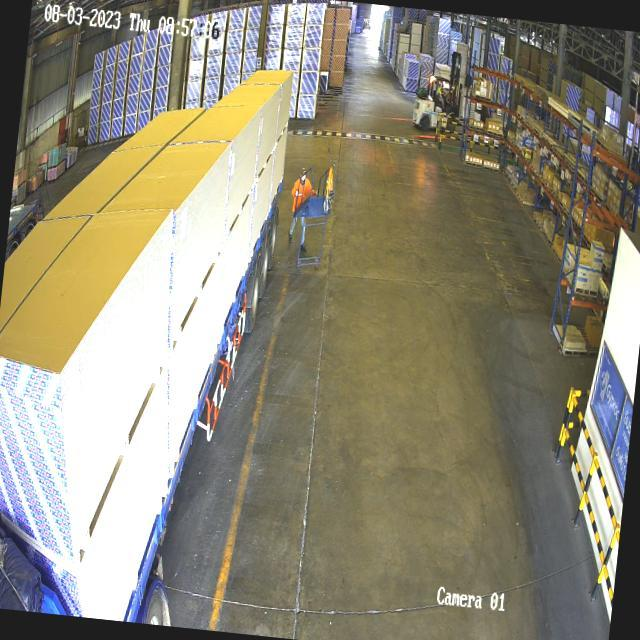forklift: (410, 69, 456, 132)
person: (290, 166, 317, 208)
